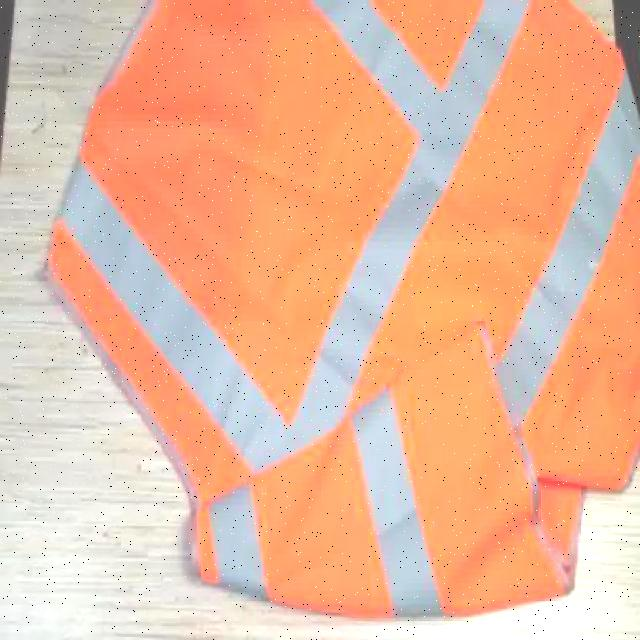Mask: (41, 0, 638, 628)
